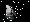person: (8, 7, 17, 20)
